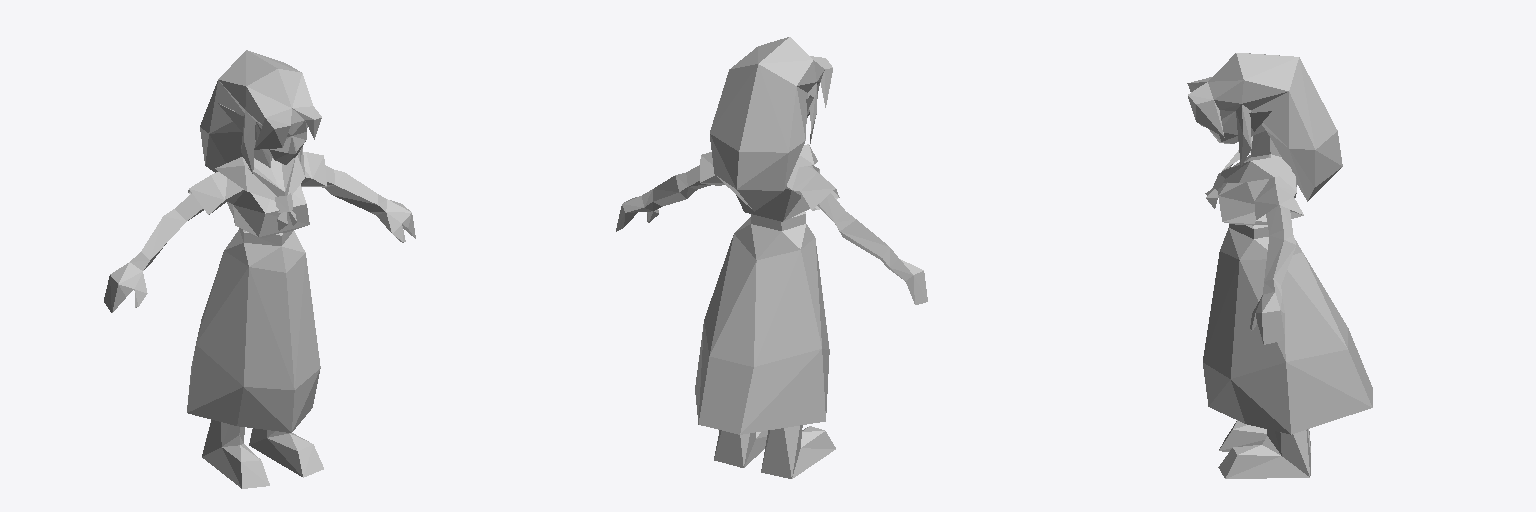
File: malon.obj
3 views of the same model, side by side, from view 1: azimuth 30°, elevation 25°; view 2: azimuth 150°, elevation 25°; view 3: azimuth 270°, elevation 25° (orthographic).
Parts seen in each view (by area): view 1: Regroup09; view 2: Regroup09; view 3: Regroup09.
Boxes of the visible parts, x1,y1,x2,y2 form: Regroup09: [104, 50, 415, 488]; Regroup09: [616, 37, 927, 478]; Regroup09: [1187, 53, 1372, 478].
Bounding box in the file's own units: 147 × 188 × 77.64.